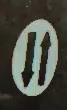Two way: (8, 12, 59, 94)
